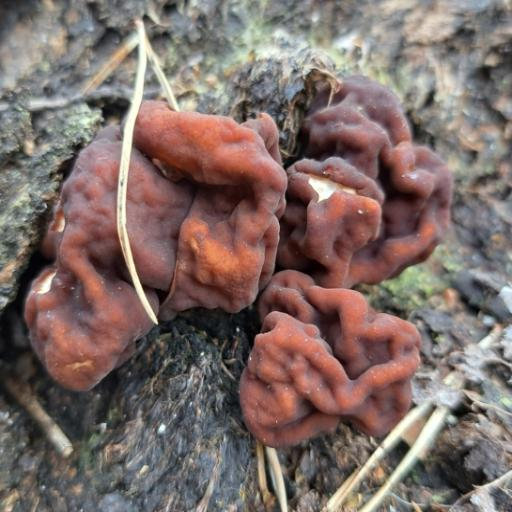False Morel: (14, 86, 306, 424), (250, 85, 445, 444)
